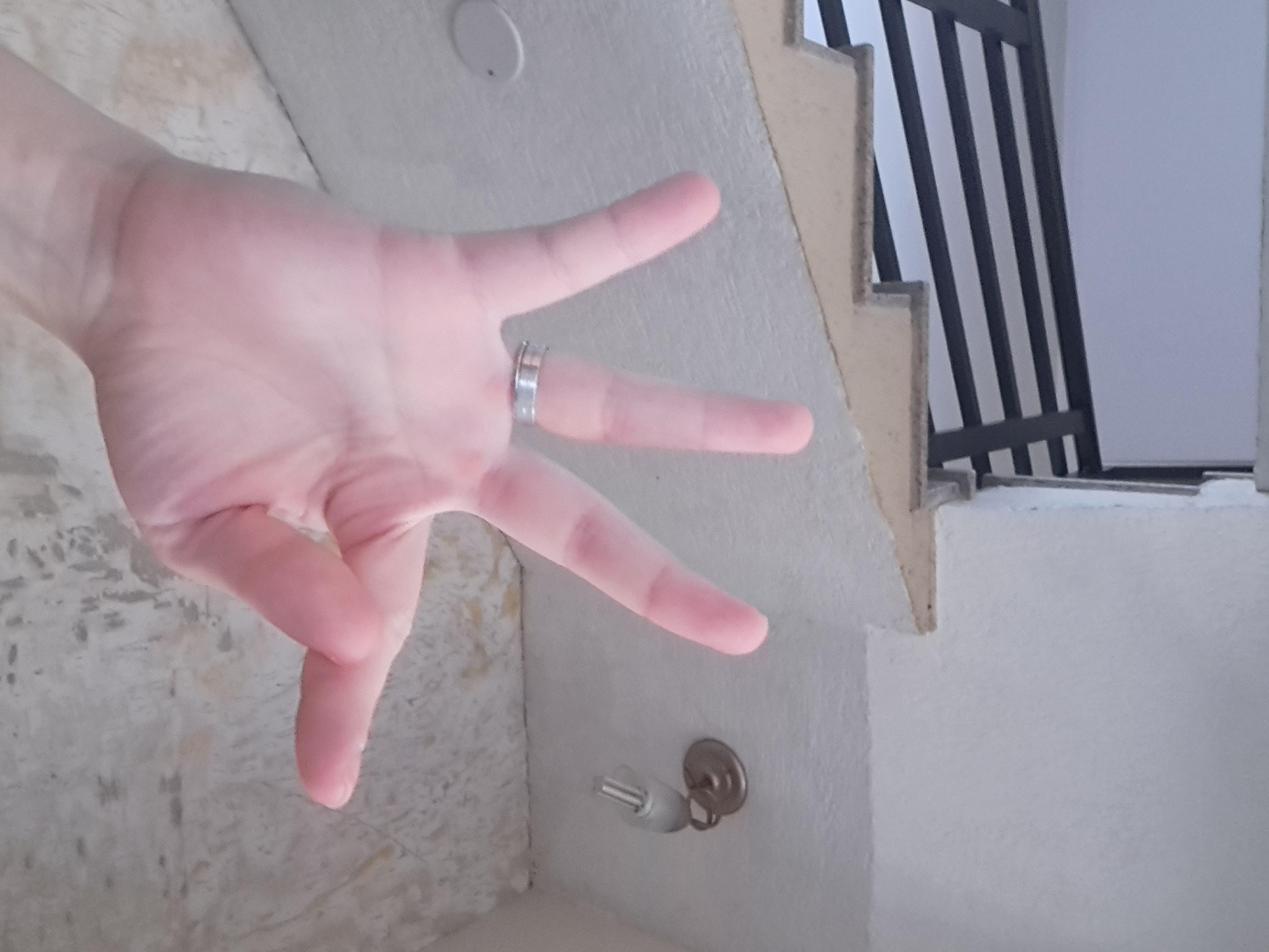T: (176, 327, 1083, 895)
